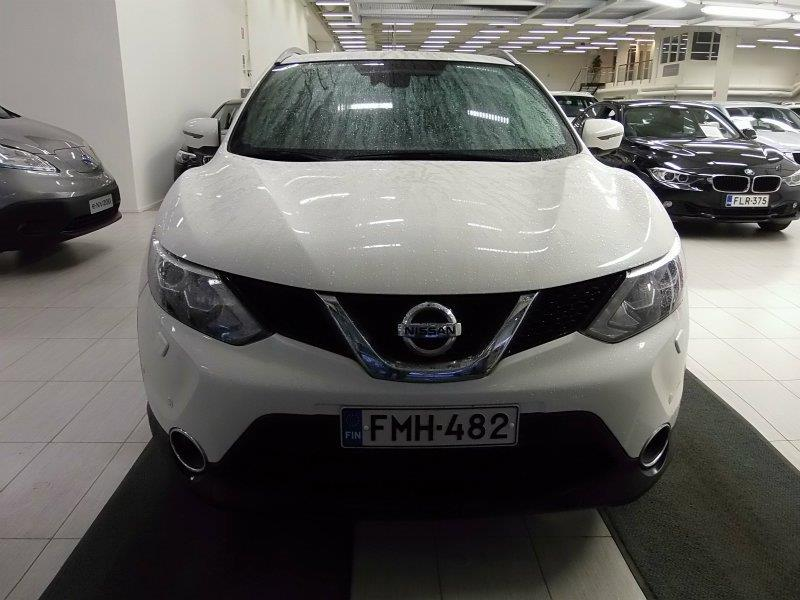license: (341, 409, 514, 447)
